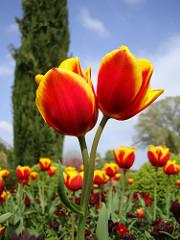tulip: (99, 43, 164, 125), (34, 58, 95, 133), (149, 141, 173, 167), (113, 144, 135, 171)
